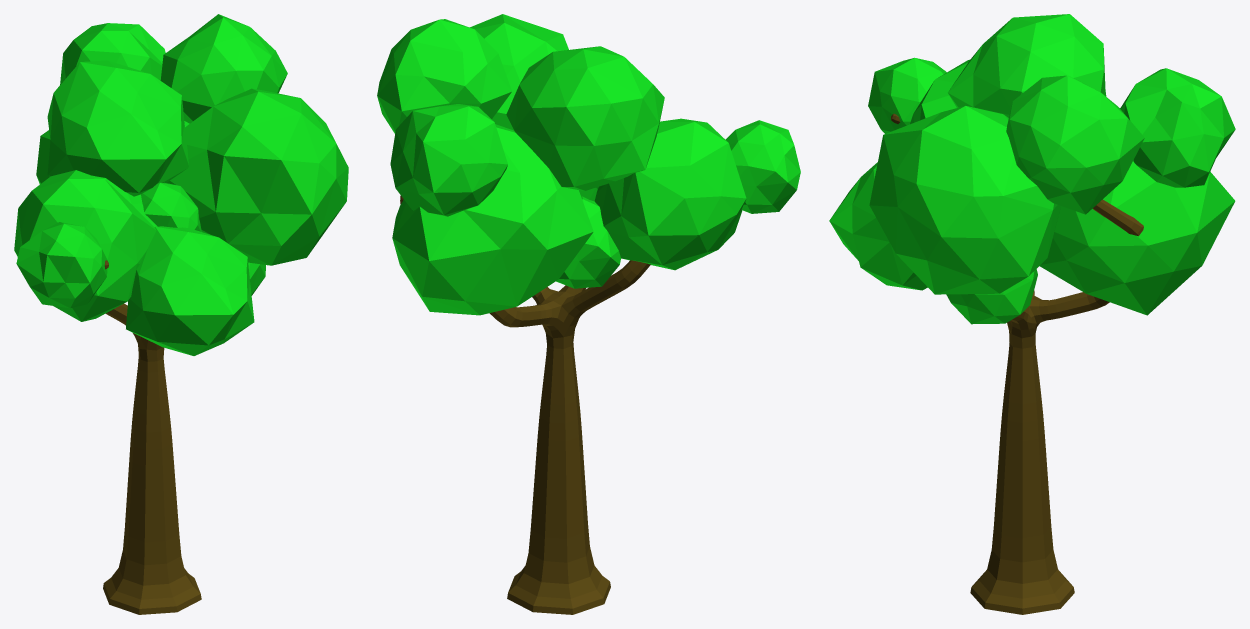
Rendered from Tree1.fbx.
3 renders of one model, left to right at view 1: azimuth 30°, elevation 25°; view 2: azimuth 150°, elevation 25°; view 3: azimuth 270°, elevation 25°, orthographic. The views are drawn at different scales.
Parts seen in each view (by area): view 1: Icosphere, Plane; view 2: Icosphere, Plane; view 3: Icosphere, Plane.
Part boxes in pixels (left/top/right/bottom): Icosphere: left=14, top=14, right=348, bottom=355; Plane: left=103, top=260, right=201, bottom=614; Icosphere: left=377, top=14, right=800, bottom=315; Plane: left=400, top=195, right=650, bottom=614; Icosphere: left=829, top=14, right=1235, bottom=324; Plane: left=891, top=113, right=1143, bottom=614.
Size of the model in its own units: 752 by 750 by 1165.
